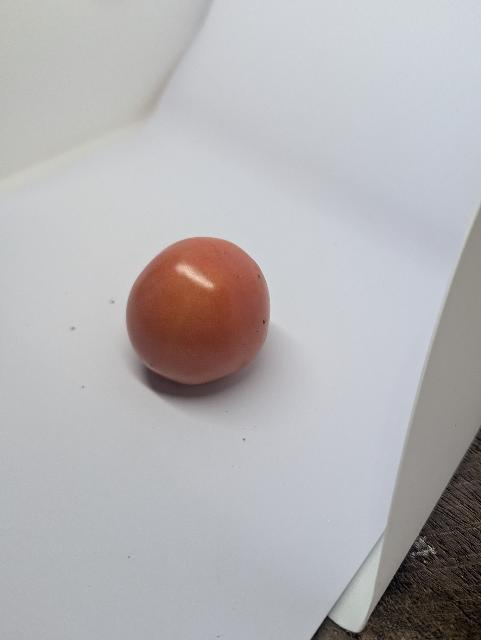red: (108, 217, 312, 413)
